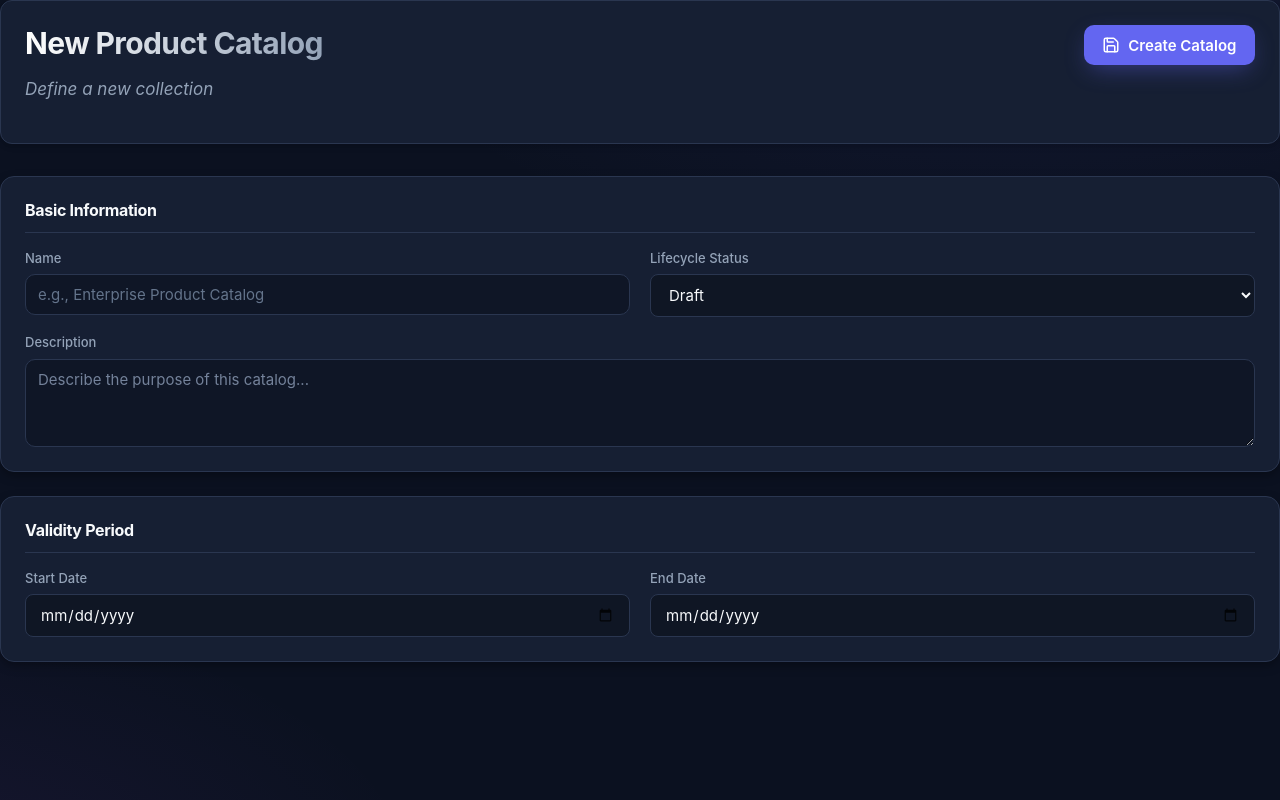
Test: CatalogEditForm › shows a generic error for a non-Error rejection
In the field labelled "Name": (328, 295) [25, 274, 630, 315], type "X"
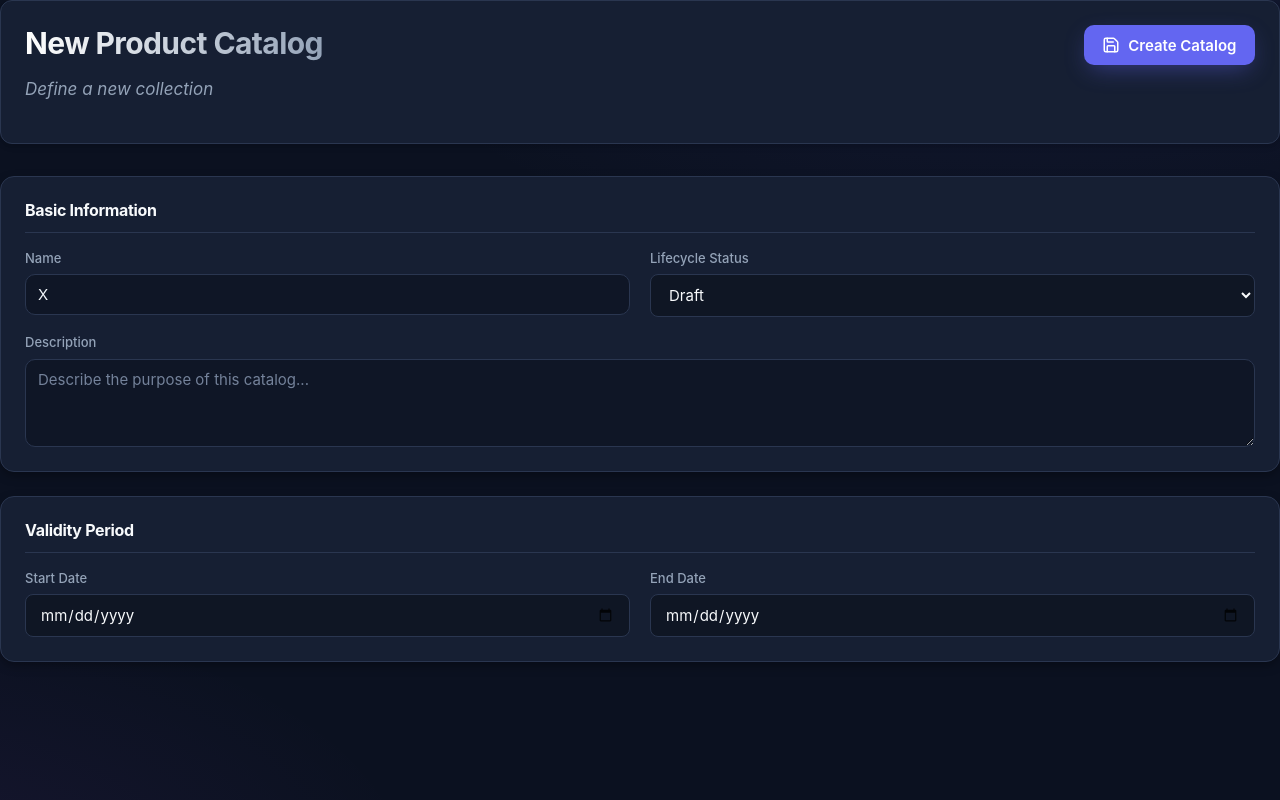
Submit the form with id "catalog-form"
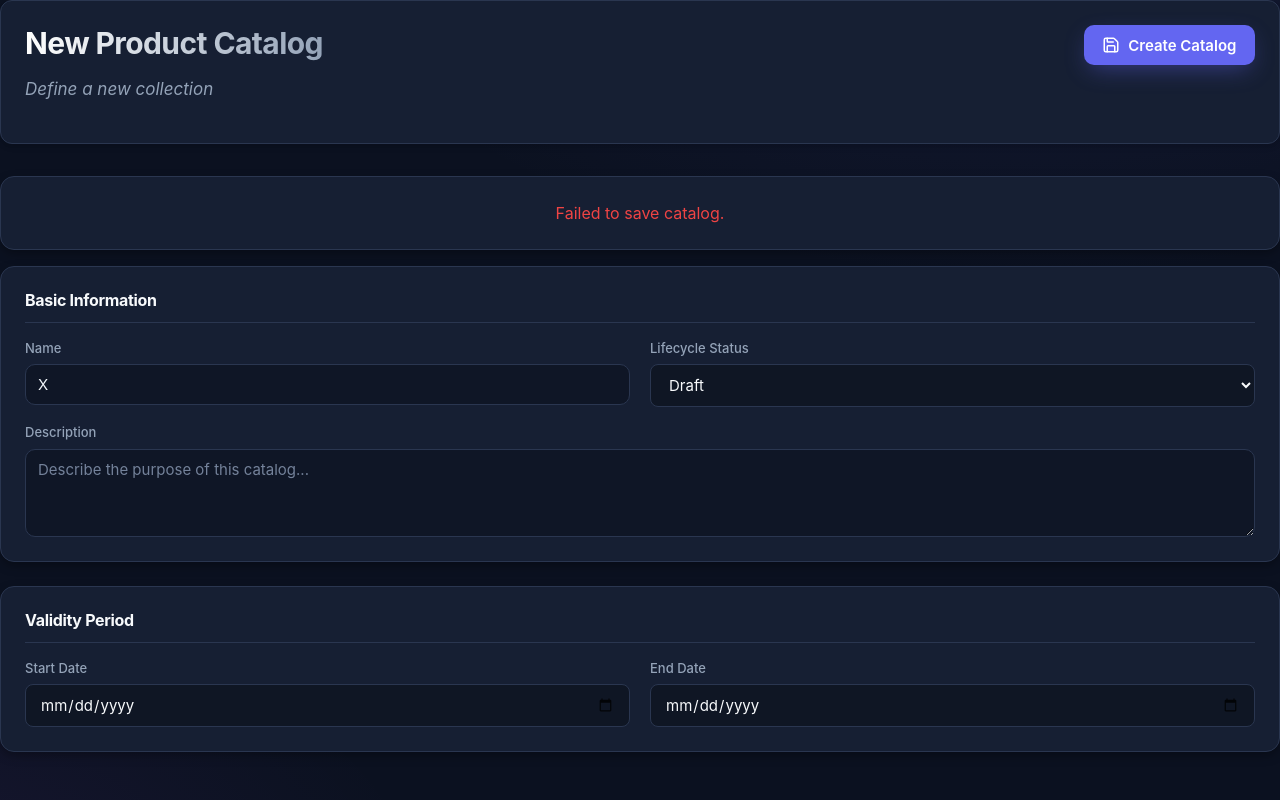
Expected: the text "Failed to save catalog." is shown, [556, 200, 724, 224]
